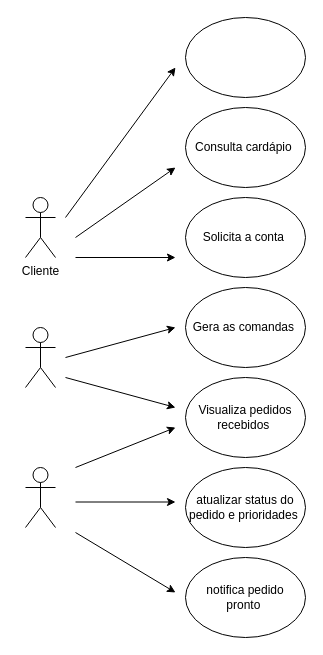
Image size: 323x655. Some labels were removed from this diagram. The shapes that lost their labels are listed below. From the top down, each one's box as (x1, y1, x2, y2) in pixels, then its label:
(184, 16, 306, 98): Realiza o pedido
(24, 326, 56, 388): Garçom
(24, 466, 56, 528): Cozinha
